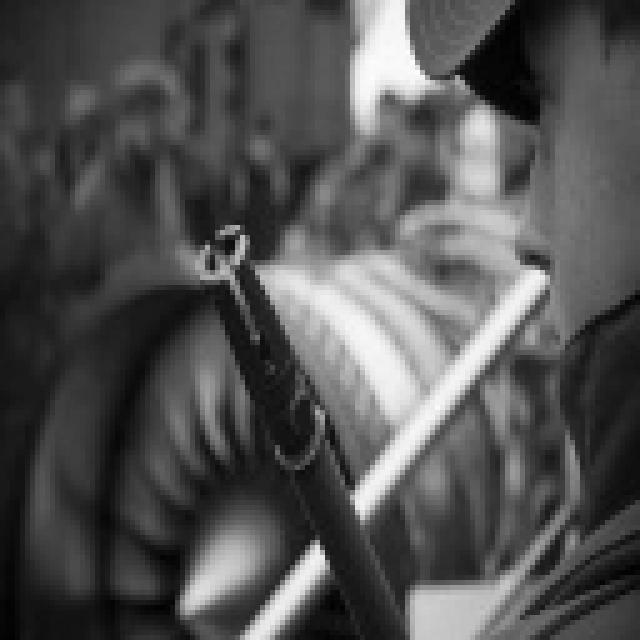Rifle: (177, 209, 437, 640)
